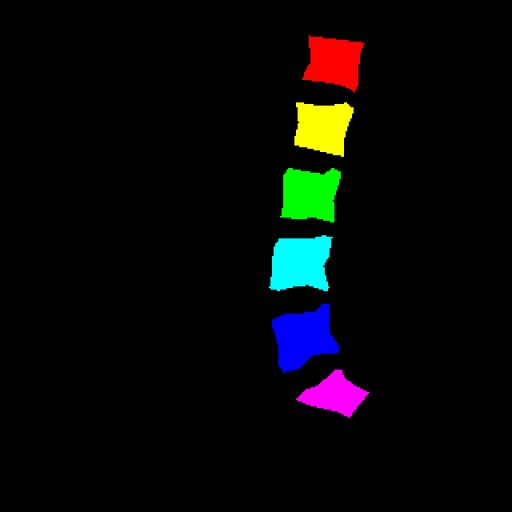L1: (303, 36, 364, 92)
L2: (294, 102, 354, 156)
L3: (281, 168, 341, 222)
L4: (270, 235, 332, 291)
L5: (272, 304, 339, 372)
S1: (297, 370, 369, 418)
